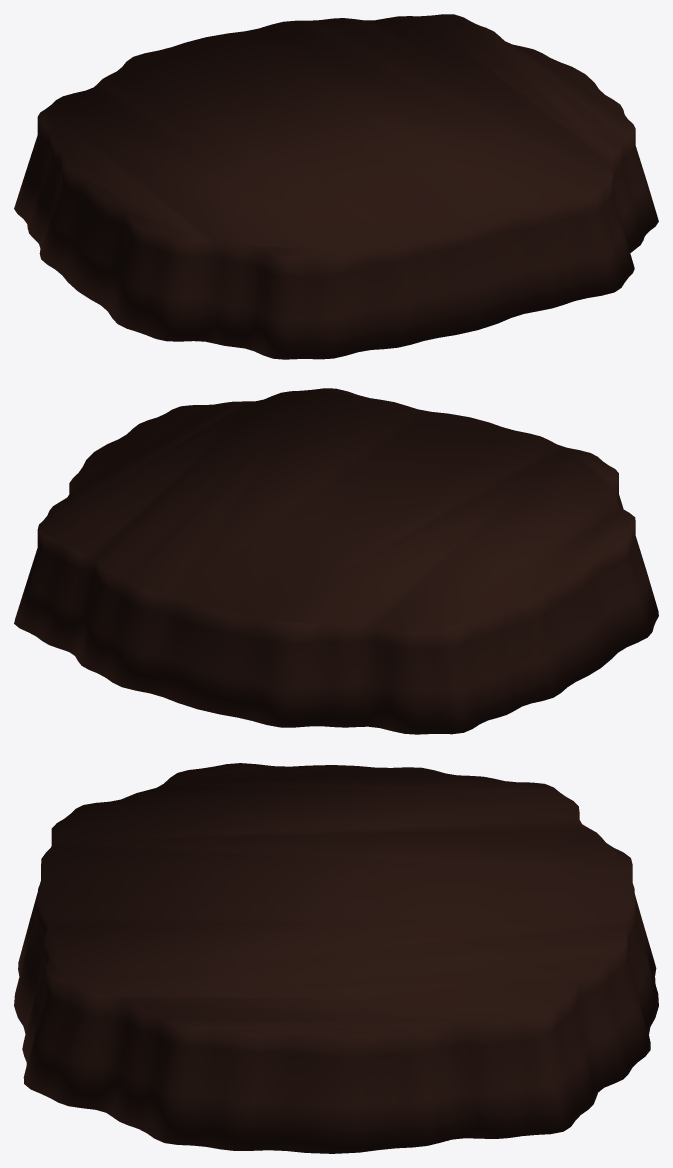
File: cacao-tower-foundation.glb
The picture shows the model from 3 angles, top to bottom: view 1: azimuth 30°, elevation 25°; view 2: azimuth 150°, elevation 25°; view 3: azimuth 270°, elevation 25°; orthographic projection. The views are drawn at different scales.
Visible parts, largest first — view 1: cacao-tower-foundation; view 2: cacao-tower-foundation; view 3: cacao-tower-foundation.
Part boxes in pixels (x1,y1,x2,y2): cacao-tower-foundation: (14, 14, 658, 359); cacao-tower-foundation: (14, 388, 658, 734); cacao-tower-foundation: (14, 763, 658, 1153).
Size of the model in its own units: 7.44 by 1.25 by 6.87.
